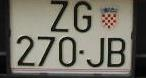-: (78, 50, 84, 54)
0: (59, 36, 75, 66)
2: (17, 35, 34, 66)
7: (38, 36, 55, 65)
B: (108, 38, 125, 67)
G: (74, 1, 91, 33)
J: (87, 38, 104, 67)
Z: (50, 1, 68, 32)
